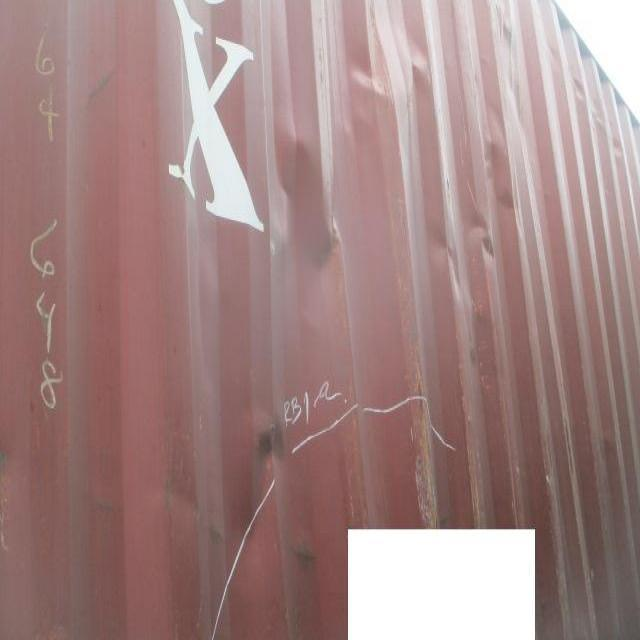dent: (258, 4, 452, 292), (217, 395, 320, 571)
